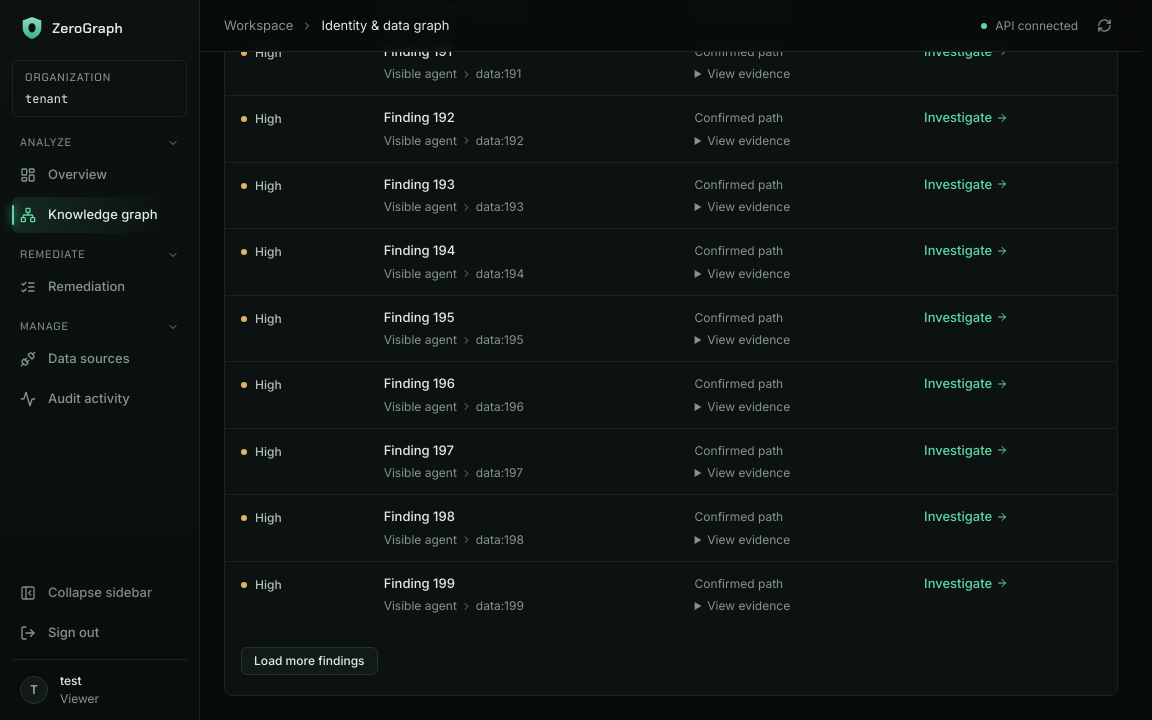
Scenario: console loading › pages findings for the displayed revision with the last finding as cursor
(page scrolled)
Click the button "Load more findings" at (309, 661), box [241,647,378,675]
(page scrolled)
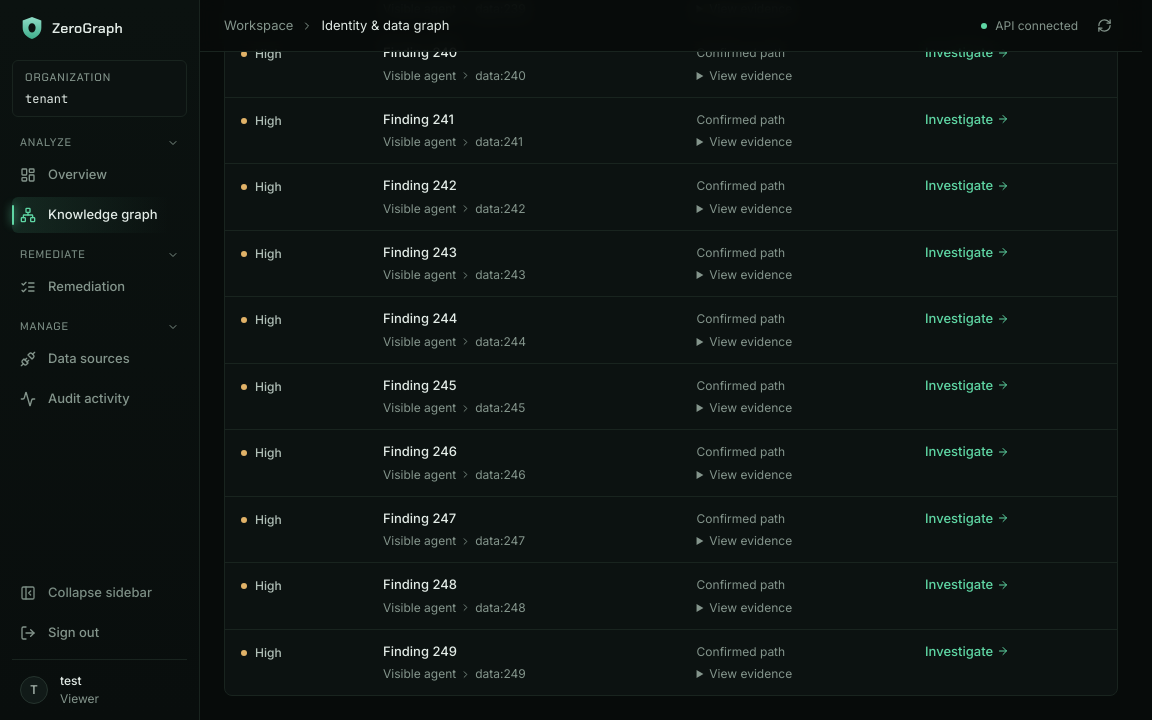
Expected: the button "Load more findings" is gone
Expected: the text "Finding 249" is shown, [383,643,457,659]
